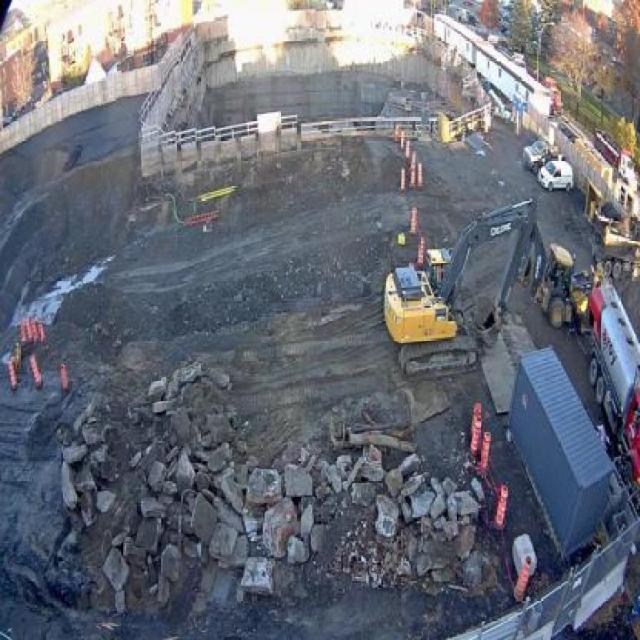Dump Truck: (590, 207, 639, 273)
Excavator: (376, 188, 538, 378)
